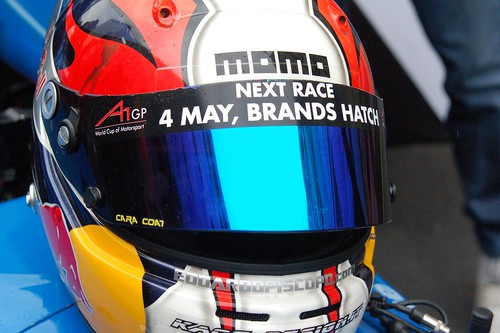helmet: (22, 0, 407, 332)
